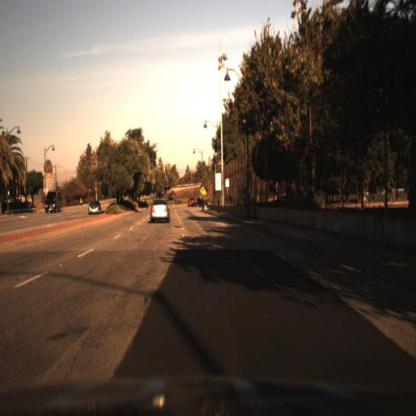car: (149, 197, 172, 223), (44, 196, 63, 216), (87, 200, 104, 216)
truck: (46, 191, 62, 216)
